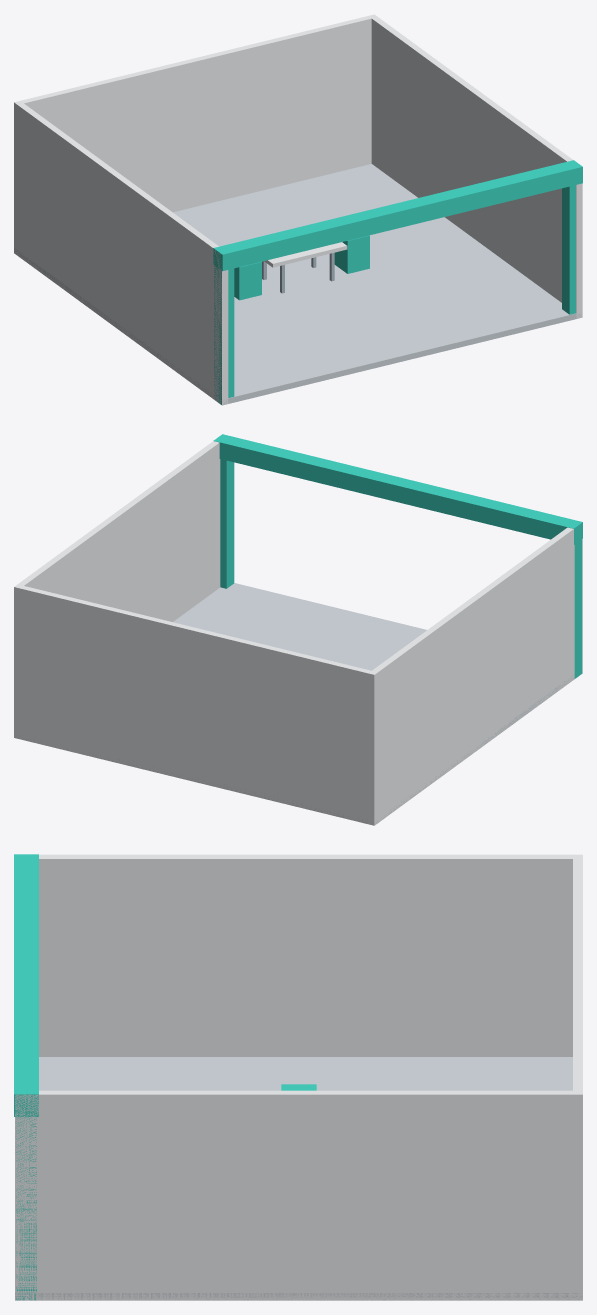
3 views of the same model, one above another, from view 1: azimuth 30°, elevation 25°; view 2: azimuth 150°, elevation 25°; view 3: azimuth 270°, elevation 25° (orthographic). The views are drawn at different scales.
Parts seen in each view (by area): view 1: Exhibition Booth Concept; view 2: Exhibition Booth Concept; view 3: Exhibition Booth Concept.
Part boxes in pixels (bbox=[...]): Exhibition Booth Concept: bbox=[14, 14, 582, 405]; Exhibition Booth Concept: bbox=[14, 434, 582, 825]; Exhibition Booth Concept: bbox=[14, 854, 582, 1300].
Bounding box in the file's own units: 8 × 3.2 × 8.01.
